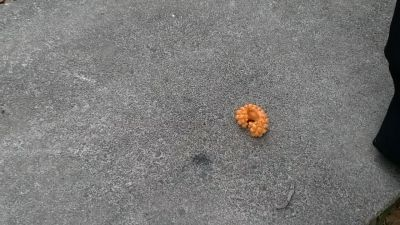eggs: (235, 103, 268, 137)
